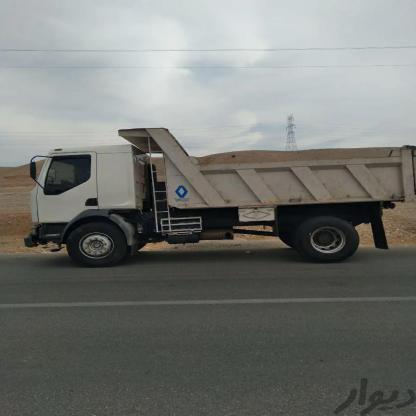Truck: (6, 118, 416, 273)
